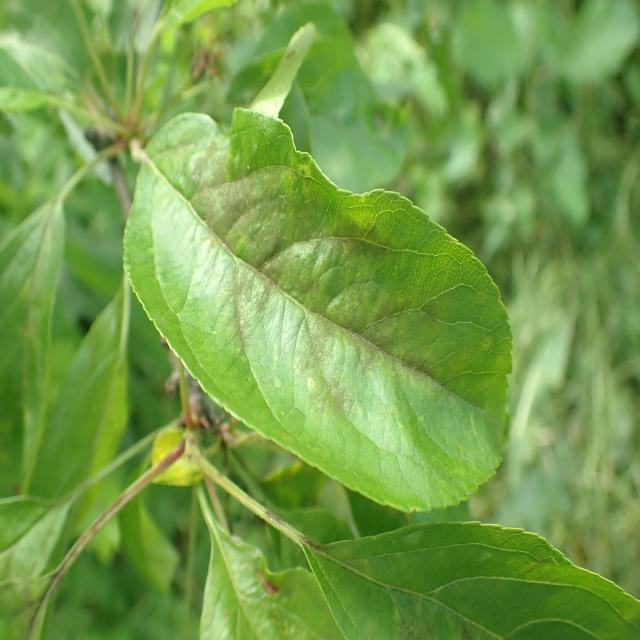scab: (175, 118, 477, 443)
